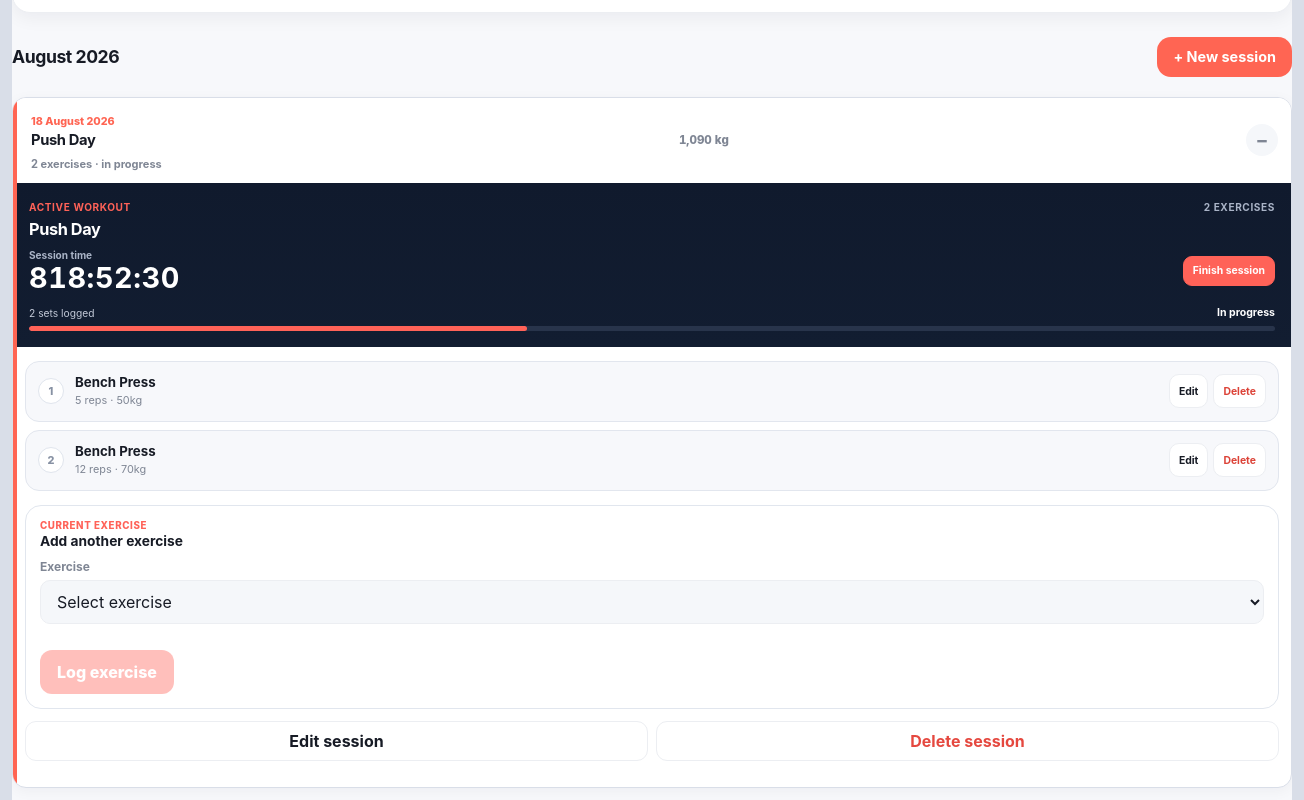
Test: WorkoutLogPage › shows the most recently logged sets when two exist on the same day
The image size is (1304, 800).
(page scrolled)
Select "Bench Press" in the dropdown labelled "Exercise". click: point(652, 602)
box: [40,580,1264,624]
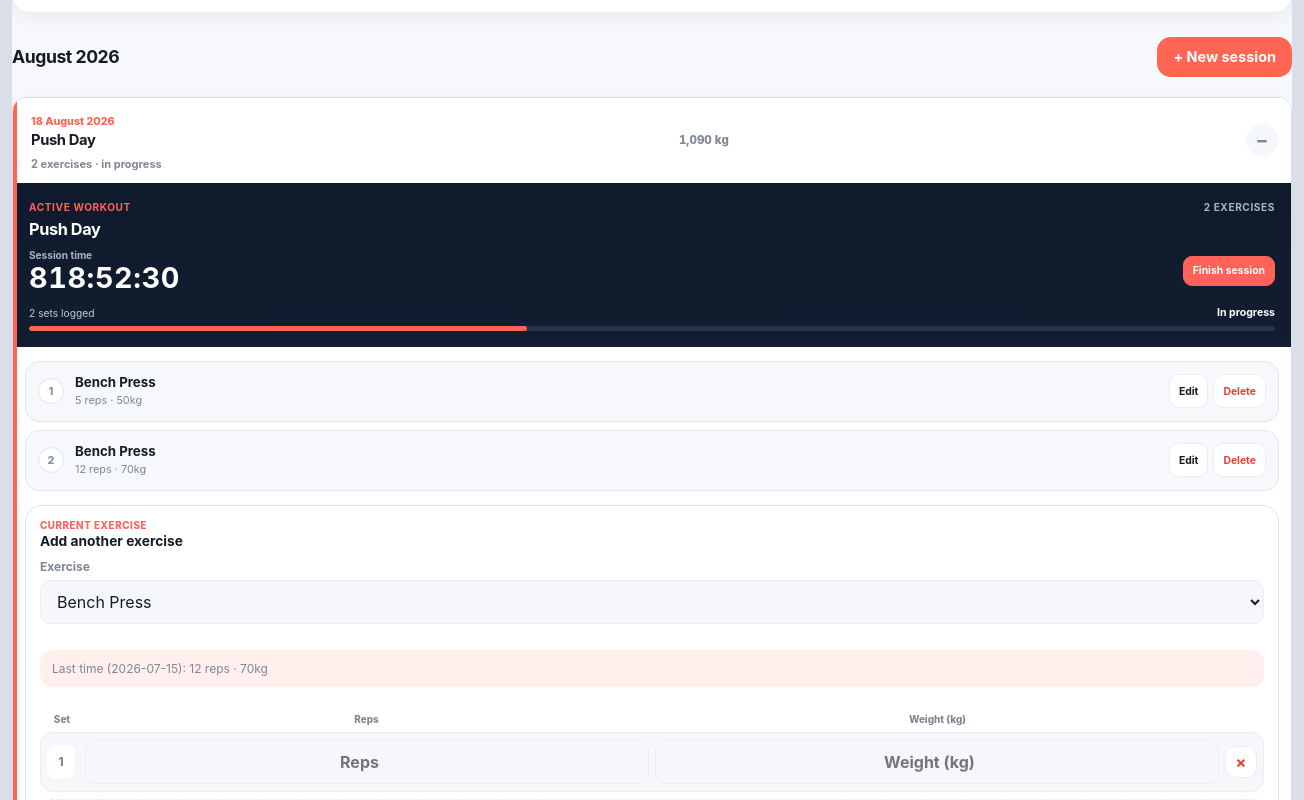
Expected: the text "Last time (2026-07-15): 12 reps · 70kg" does not show "50kg", [40,650,1264,687]
Now the text "Last time (2026-07-15): 12 reps · 70kg" is shown, box [40,650,1264,687]
